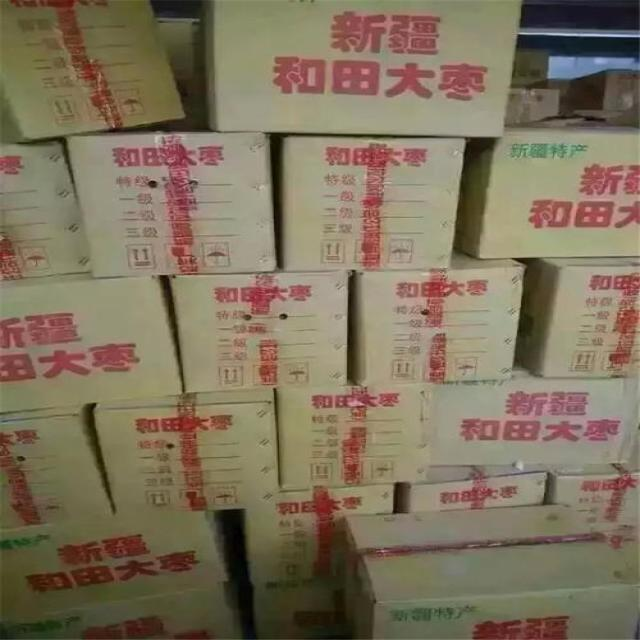box: (342, 504, 639, 640), (64, 133, 276, 278), (1, 0, 186, 143), (0, 511, 233, 623), (0, 275, 184, 415), (282, 136, 466, 272), (349, 246, 526, 385), (454, 126, 640, 258), (95, 389, 280, 514), (169, 272, 351, 394), (429, 362, 640, 467), (1, 568, 247, 640), (275, 384, 433, 493), (512, 257, 640, 378), (244, 485, 396, 583), (0, 405, 115, 529), (1, 137, 92, 283), (544, 425, 639, 536), (397, 464, 548, 514), (157, 17, 212, 130), (251, 579, 349, 640), (559, 69, 639, 130), (507, 88, 559, 128), (509, 46, 553, 89)
